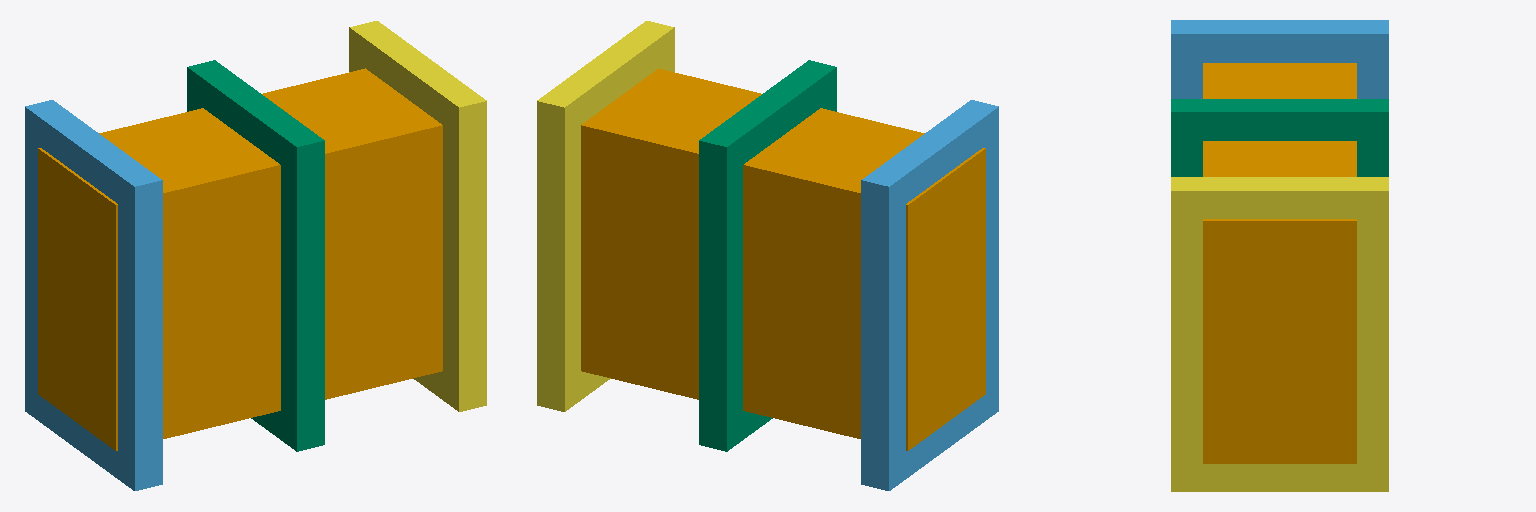
URDF robot description (debris019):
<?xml version="1.0" ?>
<robot name="debris019">

<link name="debris019">
<visual> <origin xyz="0 0 0" rpy="0 0 0" />
<geometry> <box size="0.64 0.24 0.42"/> </geometry>
</visual>
<collision> <origin xyz="0 0 0" rpy="0 0 0" />
<geometry> <box size="0.64 0.24 0.42"/> </geometry>
</collision>
<inertial> <origin xyz="0 0 0" rpy="0 0 0" />
<mass value="10.0" />
<inertia ixx="0.3154" ixy="0" ixz="0" iyy="0.3154" iyz="0" izz="0.3154" />
</inertial>
</link>
<gazebo reference="debris019"> <material>Gazebo/WoodPallet</material> </gazebo>

<link name="debris0190">
<visual> <origin xyz="-0.29 0 0" rpy="0 0 0" />
<geometry> <box size="0.05 0.34 0.52"/> </geometry>
</visual>
<collision> <origin xyz="-0.29 0 0" rpy="0 0 0" />
<geometry> <box size="0.05 0.34 0.52"/> </geometry>
</collision>
<inertial> <origin xyz="0 0 0" rpy="0 0 0" />
<mass value="0.1" />
<inertia ixx="0.0100" ixy="0" ixz="0" iyy="0.0100" iyz="0" izz="0.0100" />
</inertial>
</link>
<gazebo reference="debris0190"> <material>Gazebo/WoodPallet</material> </gazebo>

<joint name="debris0190joint" type="fixed">
<parent link="debris019"/>
<child link="debris0190"/>
<origin xyz="0 0 0" rpy="0 0 0" />
</joint>

<link name="debris0191">
<visual> <origin xyz="0.00 0 0" rpy="0 0 0" />
<geometry> <box size="0.05 0.34 0.52"/> </geometry>
</visual>
<collision> <origin xyz="0.00 0 0" rpy="0 0 0" />
<geometry> <box size="0.05 0.34 0.52"/> </geometry>
</collision>
<inertial> <origin xyz="0 0 0" rpy="0 0 0" />
<mass value="0.1" />
<inertia ixx="0.0100" ixy="0" ixz="0" iyy="0.0100" iyz="0" izz="0.0100" />
</inertial>
</link>
<gazebo reference="debris0191"> <material>Gazebo/WoodPallet</material> </gazebo>

<joint name="debris0191joint" type="fixed">
<parent link="debris019"/>
<child link="debris0191"/>
<origin xyz="0 0 0" rpy="0 0 0" />
</joint>

<link name="debris0192">
<visual> <origin xyz="0.29 0 0" rpy="0 0 0" />
<geometry> <box size="0.05 0.34 0.52"/> </geometry>
</visual>
<collision> <origin xyz="0.29 0 0" rpy="0 0 0" />
<geometry> <box size="0.05 0.34 0.52"/> </geometry>
</collision>
<inertial> <origin xyz="0 0 0" rpy="0 0 0" />
<mass value="0.1" />
<inertia ixx="0.0100" ixy="0" ixz="0" iyy="0.0100" iyz="0" izz="0.0100" />
</inertial>
</link>
<gazebo reference="debris0192"> <material>Gazebo/WoodPallet</material> </gazebo>

<joint name="debris0192joint" type="fixed">
<parent link="debris019"/>
<child link="debris0192"/>
<origin xyz="0 0 0" rpy="0 0 0" />
</joint>

</robot>

--- Facts derived from the render (not from the file) ---
3 views of the same robot in one strip: view 1: azimuth 30°, elevation 25°; view 2: azimuth 150°, elevation 25°; view 3: azimuth 270°, elevation 25° (orthographic).
Model debris019 with 4 links and 3 joints (3 fixed), rooted at debris019, posed all joints at 0.
Links seen in each view (by area): view 1: debris019, debris0190, debris0191, debris0192; view 2: debris019, debris0190, debris0191, debris0192; view 3: debris019, debris0192, debris0190, debris0191.
Link boxes in pixels (left/top/right/bottom): debris019: left=38, top=68, right=442, bottom=450; debris0190: left=25, top=100, right=162, bottom=490; debris0191: left=187, top=60, right=324, bottom=451; debris0192: left=349, top=21, right=486, bottom=411; debris019: left=581, top=68, right=985, bottom=450; debris0190: left=861, top=100, right=998, bottom=490; debris0191: left=699, top=60, right=836, bottom=451; debris0192: left=537, top=21, right=674, bottom=411; debris019: left=1203, top=63, right=1356, bottom=463; debris0192: left=1171, top=177, right=1388, bottom=491; debris0190: left=1171, top=20, right=1388, bottom=98; debris0191: left=1171, top=99, right=1388, bottom=176.
Size in the robot's own frame: 0.64 by 0.34 by 0.52 metres.
Geometry: primitives only (box / cylinder / sphere), no mesh files.
